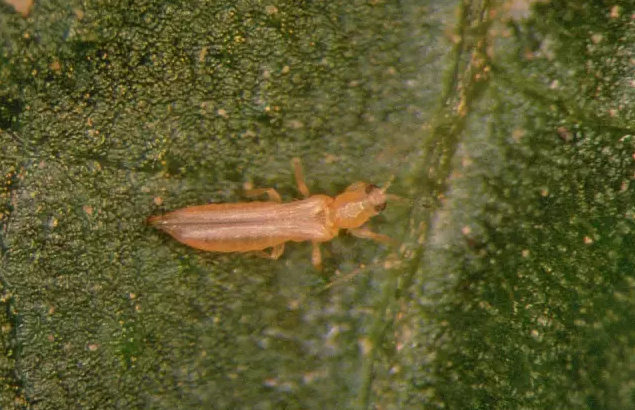thrips: (141, 157, 430, 270)
